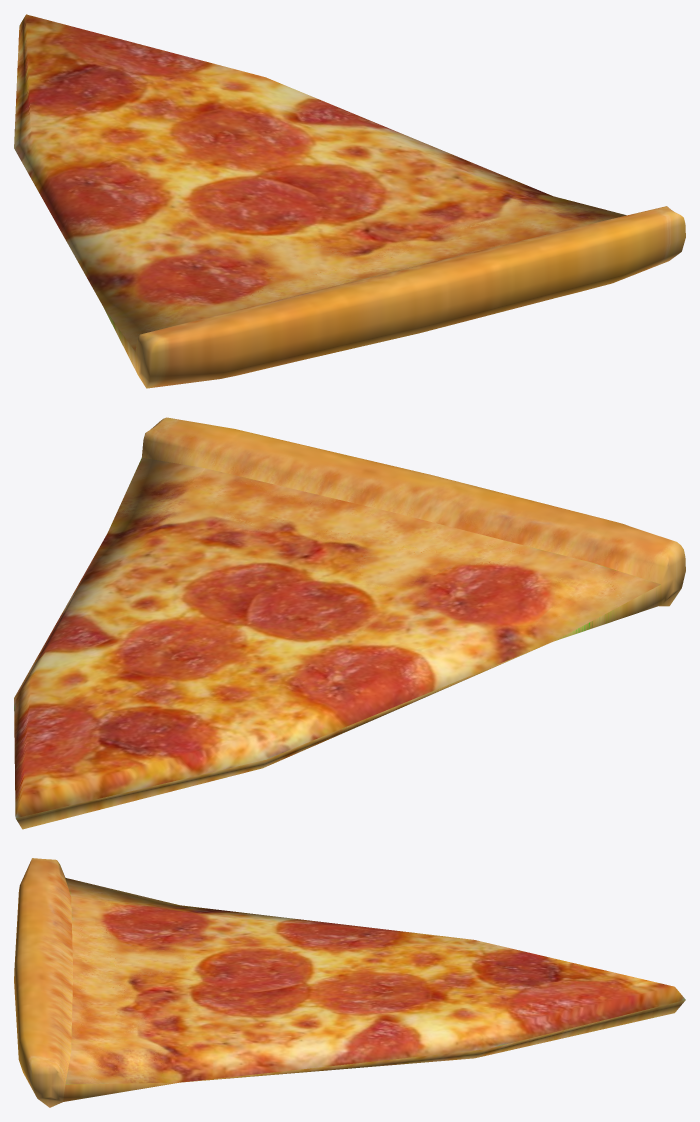
Rendered from Pizza.FBX.
The picture shows the model from 3 angles, top to bottom: view 1: azimuth 30°, elevation 25°; view 2: azimuth 150°, elevation 25°; view 3: azimuth 270°, elevation 25°; orthographic projection. The views are drawn at different scales.
Parts seen in each view (by area): view 1: Prism001; view 2: Prism001; view 3: Prism001.
Part boxes in pixels (x1,y1,x2,y2): Prism001: (14,14,685,388); Prism001: (14,417,685,829); Prism001: (14,858,685,1107).
Size of the model in its own units: 111 by 14.18 by 150.
1 material, 1 textured.
